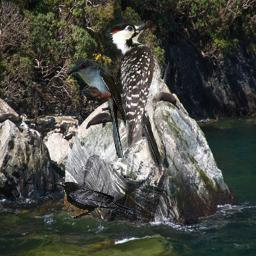Crow: (55, 181, 134, 221)
Cuckoo: (67, 58, 128, 158)
Woodpecker: (102, 20, 175, 173)
